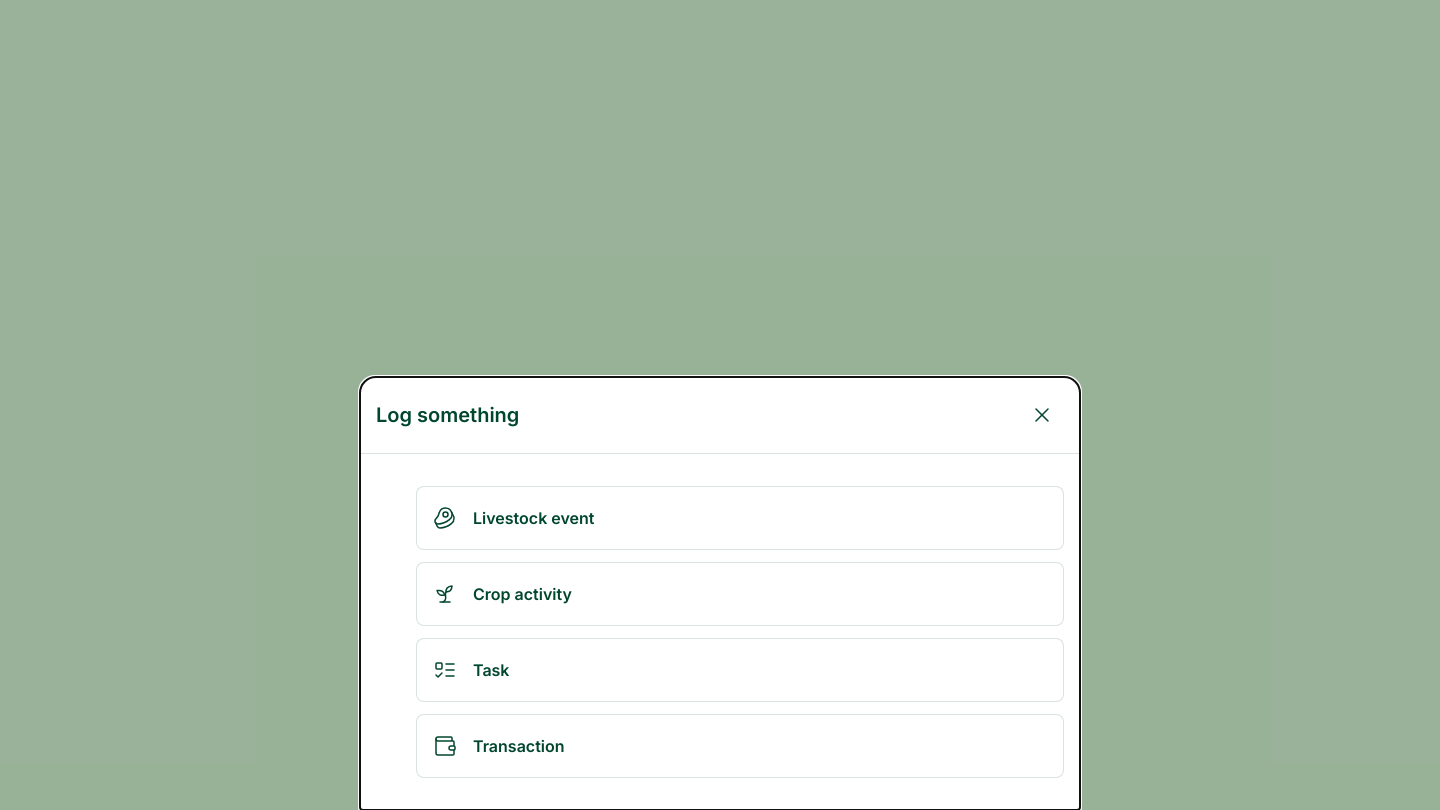
Test case: QuickAddSheet › returns to the chooser from a form without logging
The width and height of the screenshot is (1440, 810).
Click the button "Task".
click(491, 670)  # box [416,638,1064,702]
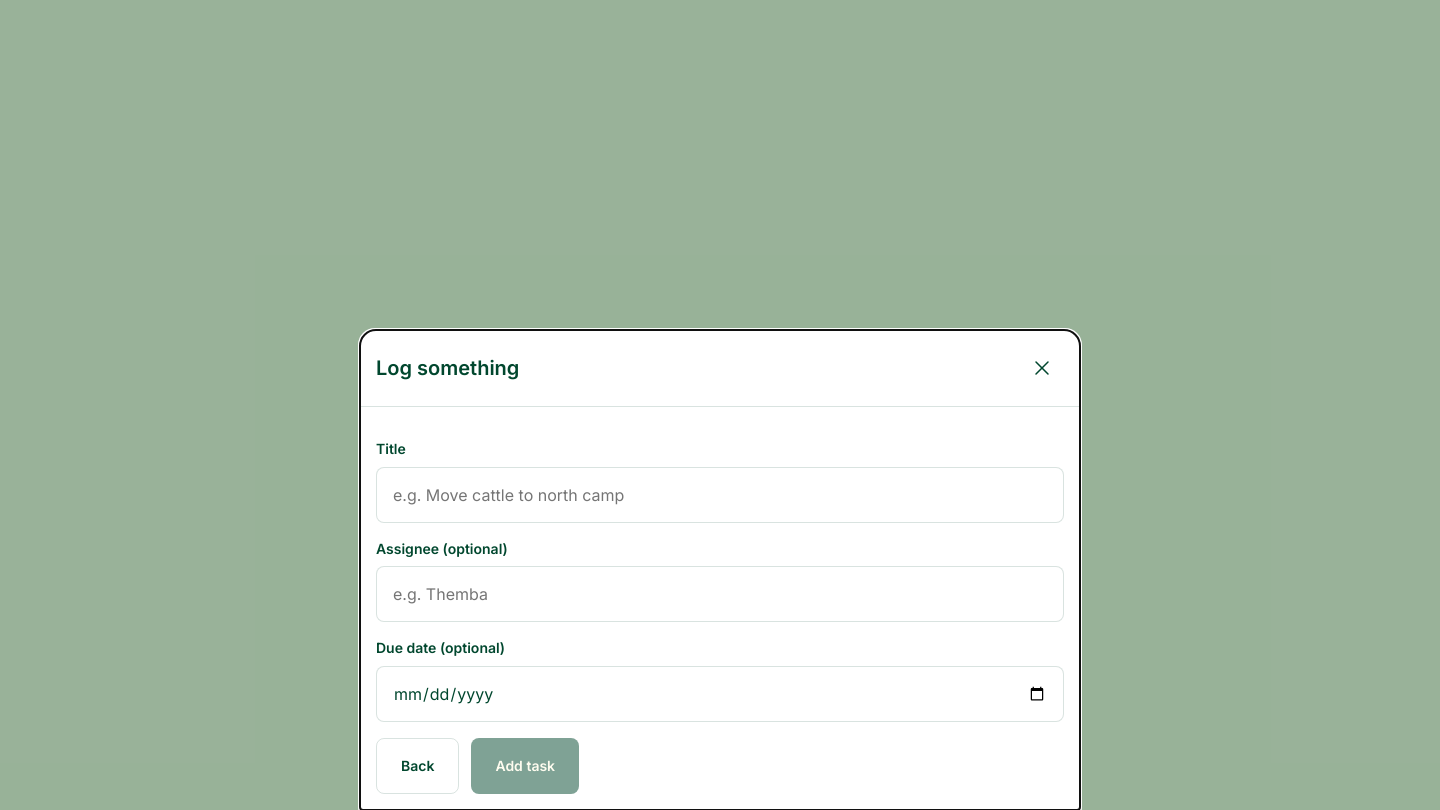
Expected: the field with test id "quick-task-title-input" is shown, [376,467,1064,523]
Click the button "Back".
click(418, 766)  # box [376,738,459,794]
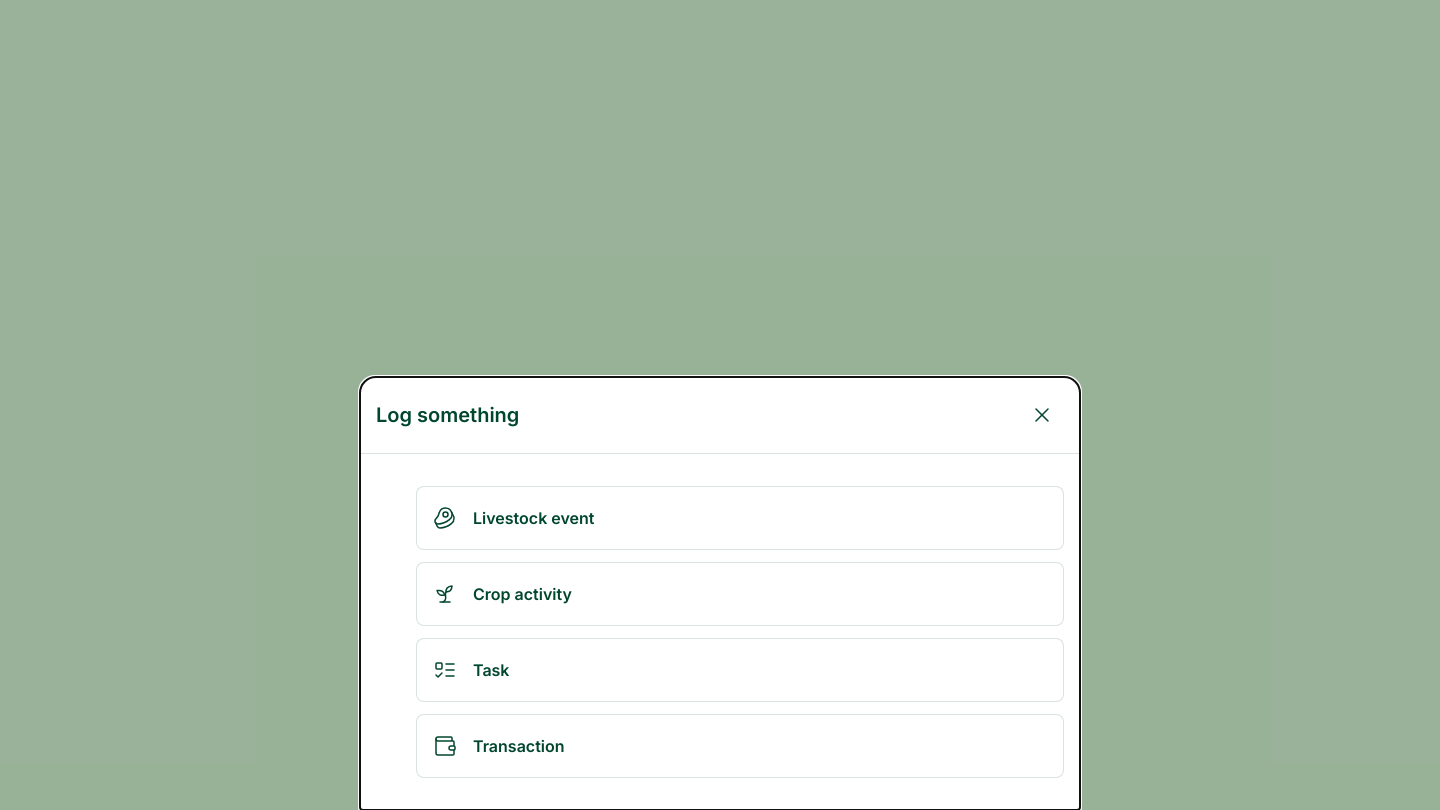
Expected: the button "Livestock event" is shown, [416,486,1064,550]
